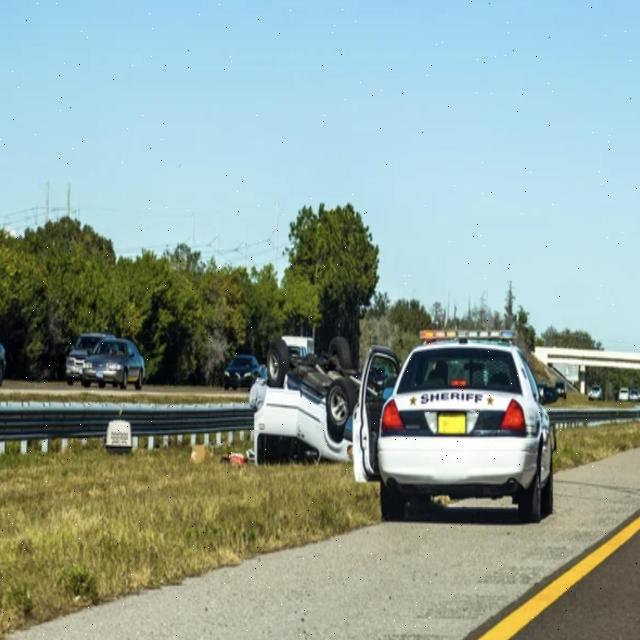severe: (247, 330, 381, 467)
